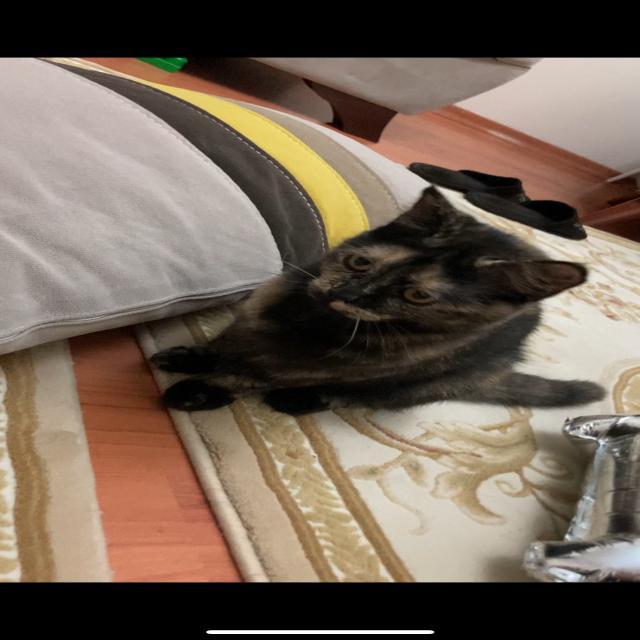authorized: (146, 183, 606, 417)
